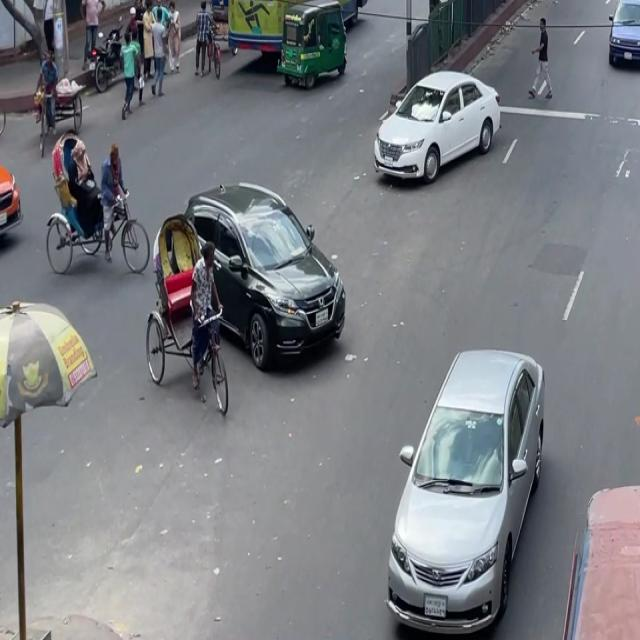car: (376, 324, 560, 630), (175, 162, 357, 378), (365, 56, 506, 196), (603, 0, 639, 75)
rickshaw: (274, 0, 352, 98)
van: (30, 61, 91, 151)
